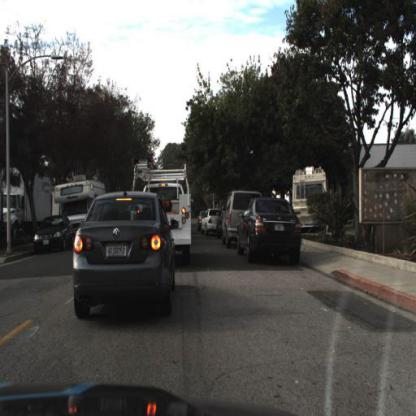car: (73, 194, 175, 318), (235, 196, 302, 263), (165, 161, 195, 273), (55, 176, 109, 227), (292, 168, 328, 230), (222, 191, 261, 244), (34, 213, 72, 251), (221, 188, 241, 253), (201, 208, 219, 235)
truck: (142, 172, 193, 254), (284, 160, 333, 239), (3, 172, 53, 236), (58, 181, 98, 239)
